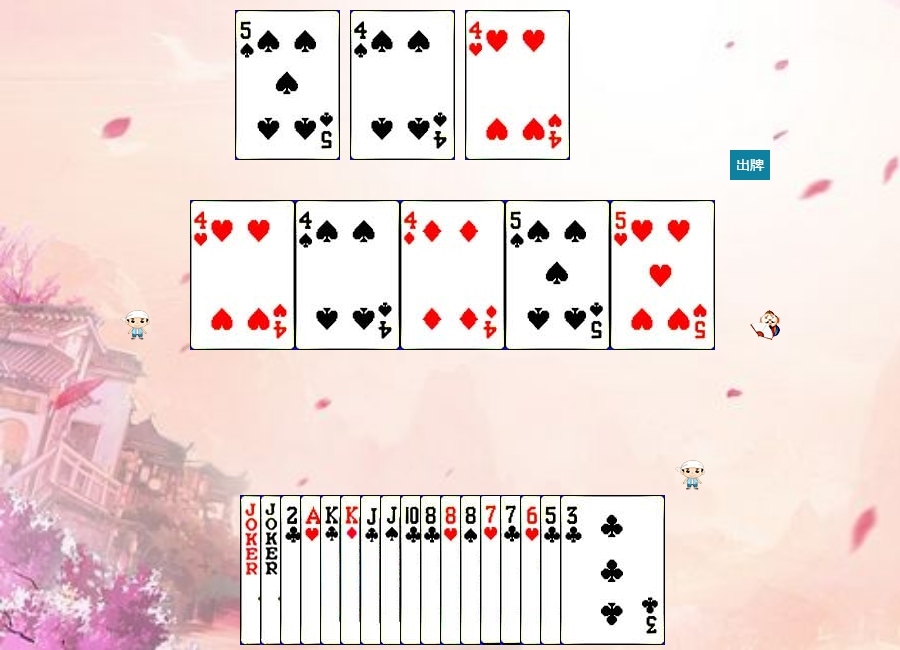10~2: (400, 495, 505, 645)
11~2: (360, 495, 465, 645)
11~4: (380, 495, 485, 645)
13~1: (340, 495, 445, 645)
13~2: (320, 495, 425, 645)
14~3: (300, 495, 405, 645)
15~2: (280, 495, 385, 645)
17~3: (260, 495, 365, 645)
18~4: (240, 495, 345, 645)
3~2: (560, 495, 665, 645)
4~1: (400, 200, 505, 350)
4~3: (465, 10, 570, 160), (190, 200, 295, 350)
4~4: (350, 10, 455, 160), (295, 200, 400, 350)
5~2: (540, 495, 645, 645)
5~3: (610, 200, 715, 350)
5~4: (235, 10, 340, 160), (505, 200, 610, 350)
6~3: (520, 495, 625, 645)
7~2: (500, 495, 605, 645)
7~3: (480, 495, 585, 645)
8~2: (420, 495, 525, 645)
8~3: (440, 495, 545, 645)
8~4: (460, 495, 565, 645)
